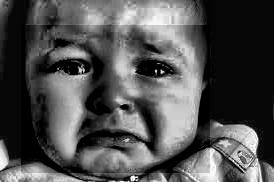sad: (22, 25, 211, 173)
